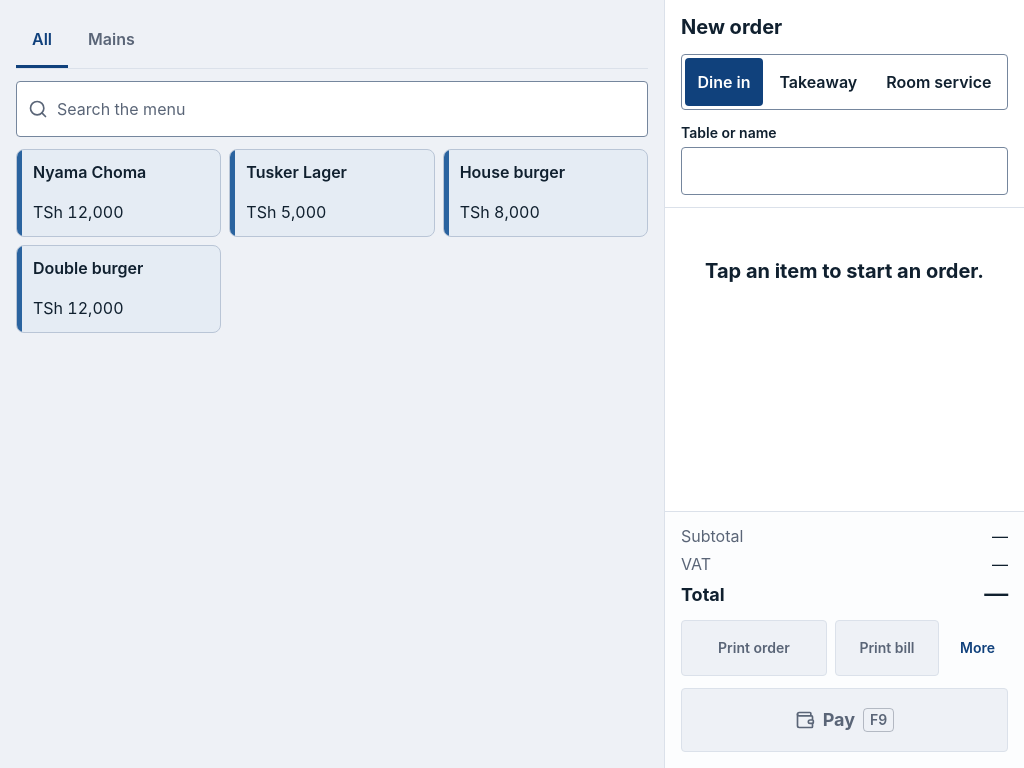
NewOrder › F9 opens Pay for the order on the ticket
Click the button with test id "menu-Nyama Choma" at [119, 193], box [16,149,221,237]
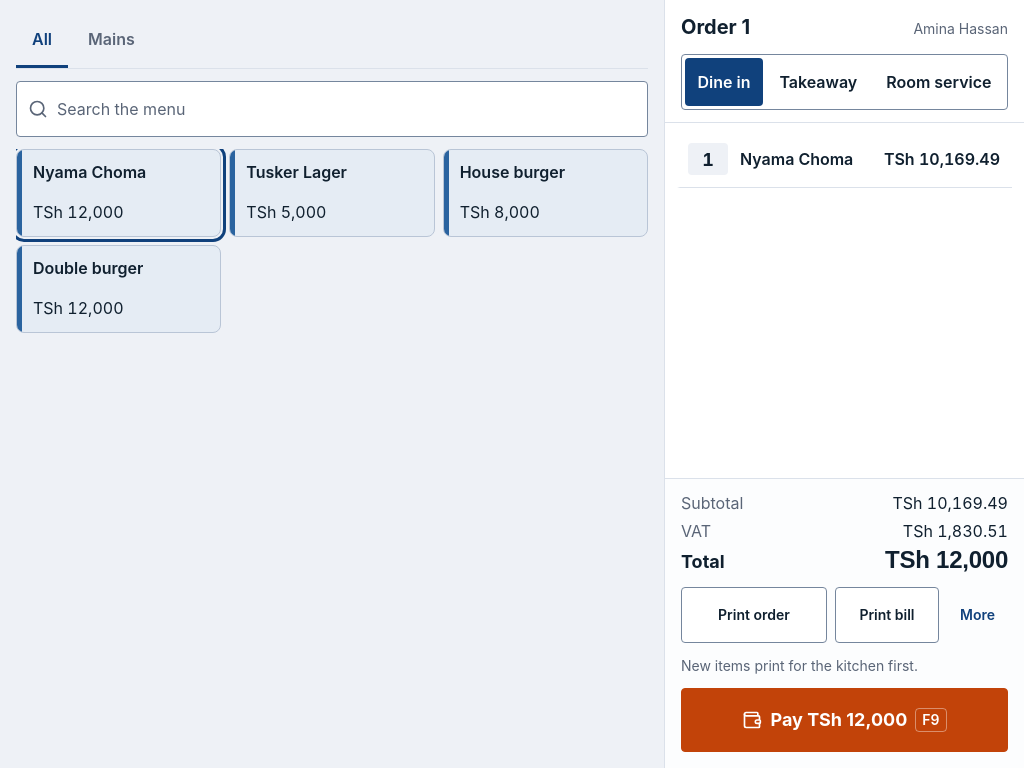
Press F9
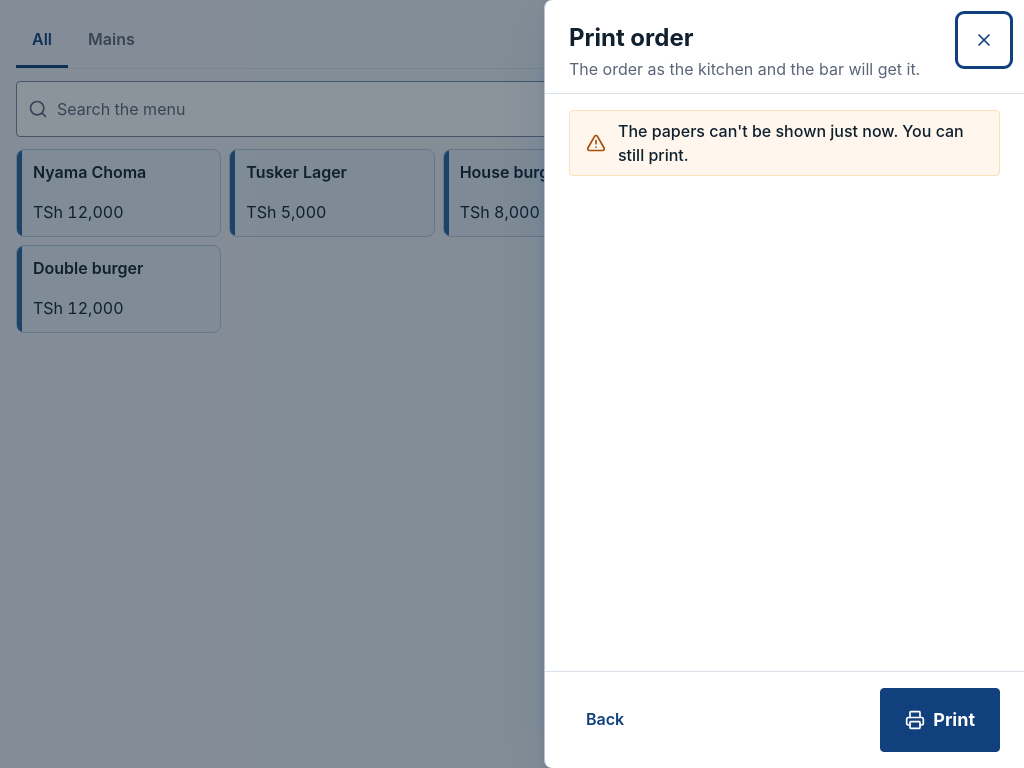
Result: the dialog is shown at [544,0,1023,767]
